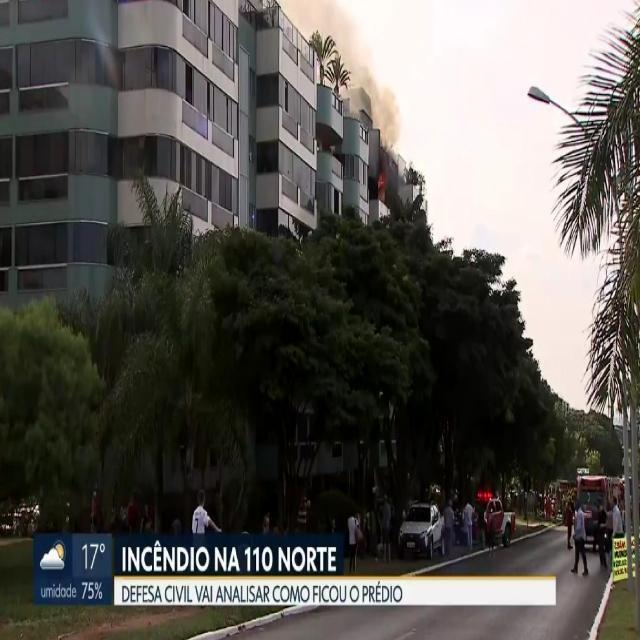Smoke: (353, 49, 408, 174)
